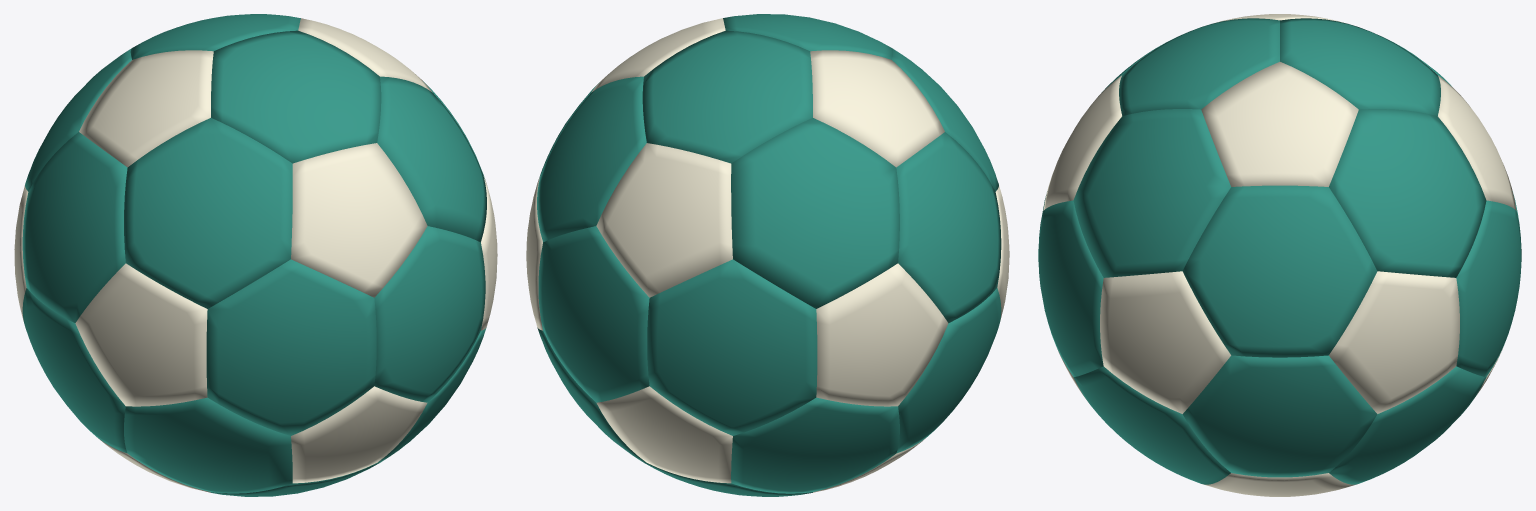
File: handball.glb
3 renders of one model, left to right at view 1: azimuth 30°, elevation 25°; view 2: azimuth 150°, elevation 25°; view 3: azimuth 270°, elevation 25°, orthographic.
Parts seen in each view (by area): view 1: handball; view 2: handball; view 3: handball.
Part boxes in pixels (x1,y1,x2,y2): handball: (14, 14, 497, 496); handball: (526, 14, 1009, 496); handball: (1038, 14, 1521, 496).
Size of the model in its own units: 2 by 2 by 2.
